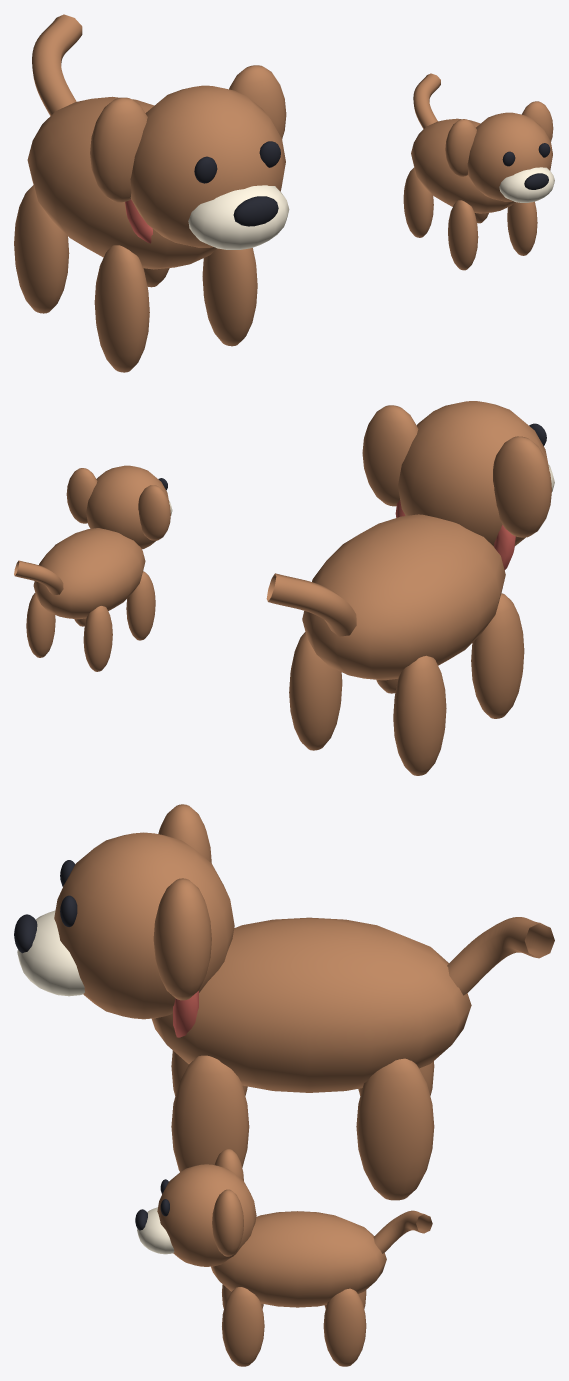
The model's file is dog-opposite-big-dog.glb.
3 renders of one model, top to bottom at view 1: azimuth 30°, elevation 25°; view 2: azimuth 150°, elevation 25°; view 3: azimuth 270°, elevation 25°, orthographic. The views are drawn at different scales.
Visible parts, largest first — view 1: animal head, round animal body, little paw, little paw.001, animal head.001, little paw.002, animal ear, muzzle, round animal body.001, tail, animal ear.001, little paw.004 (+10 smaller); view 2: round animal body, animal head, round animal body.001, little paw.001, animal ear, little paw, little paw.003, animal head.001, animal ear.001, tail, little paw.005, little paw.004 (+5 smaller); view 3: round animal body, animal head, round animal body.001, little paw.003, little paw.002, animal head.001, animal ear.001, tail, muzzle, little paw.006, little paw.007, animal ear.003 (+5 smaller).
Part boxes in pixels (<box>): animal head: <box>130,85,285,247</box>; round animal body: <box>27,96,216,269</box>; little paw: <box>94,245,149,372</box>; little paw.001: <box>14,185,69,313</box>; animal head.001: <box>467,112,552,201</box>; little paw.002: <box>202,248,257,346</box>; animal ear: <box>90,97,147,202</box>; muzzle: <box>188,185,289,249</box>; round animal body.001: <box>411,118,514,213</box>; tail: <box>32,14,82,115</box>; animal ear.001: <box>229,65,286,138</box>; little paw.004: <box>448,200,478,270</box>; round animal body: <box>302,514,505,680</box>; animal head: <box>398,401,551,546</box>; round animal body.001: <box>33,528,145,619</box>; little paw.001: <box>393,655,446,775</box>; animal ear: <box>493,436,551,537</box>; little paw: <box>471,593,524,718</box>; little paw.003: <box>289,632,342,750</box>; animal head.001: <box>86,465,169,549</box>; animal ear.001: <box>362,405,418,506</box>; tail: <box>266,573,356,636</box>; little paw.005: <box>83,606,112,671</box>; little paw.004: <box>126,571,155,640</box>; round animal body: <box>152,917,471,1092</box>; animal head: <box>54,832,234,1019</box>; round animal body.001: <box>211,1211,386,1307</box>; little paw.003: <box>356,1058,434,1200</box>; little paw.002: <box>171,1055,249,1171</box>; animal head.001: <box>157,1164,256,1266</box>; animal ear.001: <box>153,878,211,1000</box>; tail: <box>447,917,554,995</box>; muzzle: <box>17,910,84,996</box>; little paw.006: <box>222,1287,264,1366</box>; little paw.007: <box>323,1288,366,1366</box>; animal ear.003: <box>212,1189,243,1256</box>.
Bounding box in the file's own units: 1.95 × 1.12 × 1.67.
